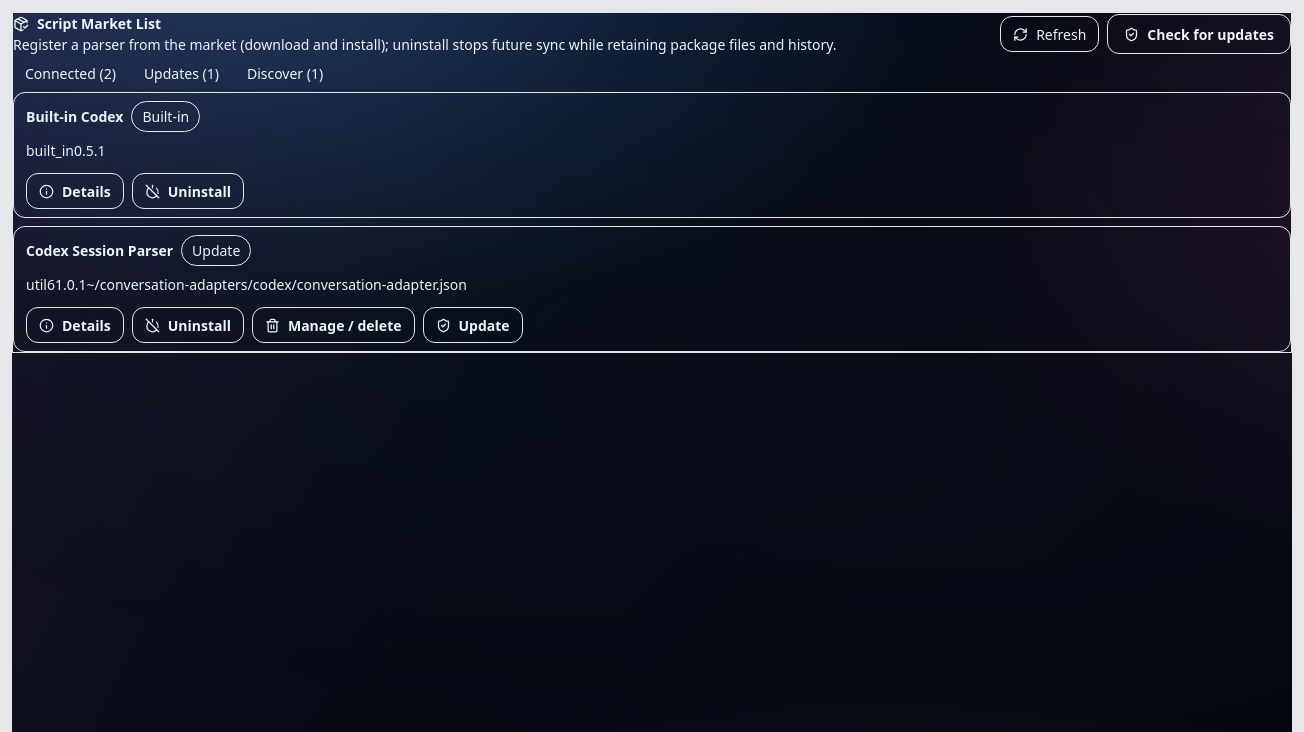
Test: ConversationScriptResourcePanel › separates connected, update, and discover views
This screenshot has width=1304, height=732.
Check: the heading "Built-in Codex" is shown, box left=26, top=106, right=123, bottom=127
Check: the heading "Codex Session Parser" is shown, box left=26, top=240, right=173, bottom=261
Click the tab "Updates (1)". click: (181, 74)
box: left=132, top=55, right=231, bottom=92
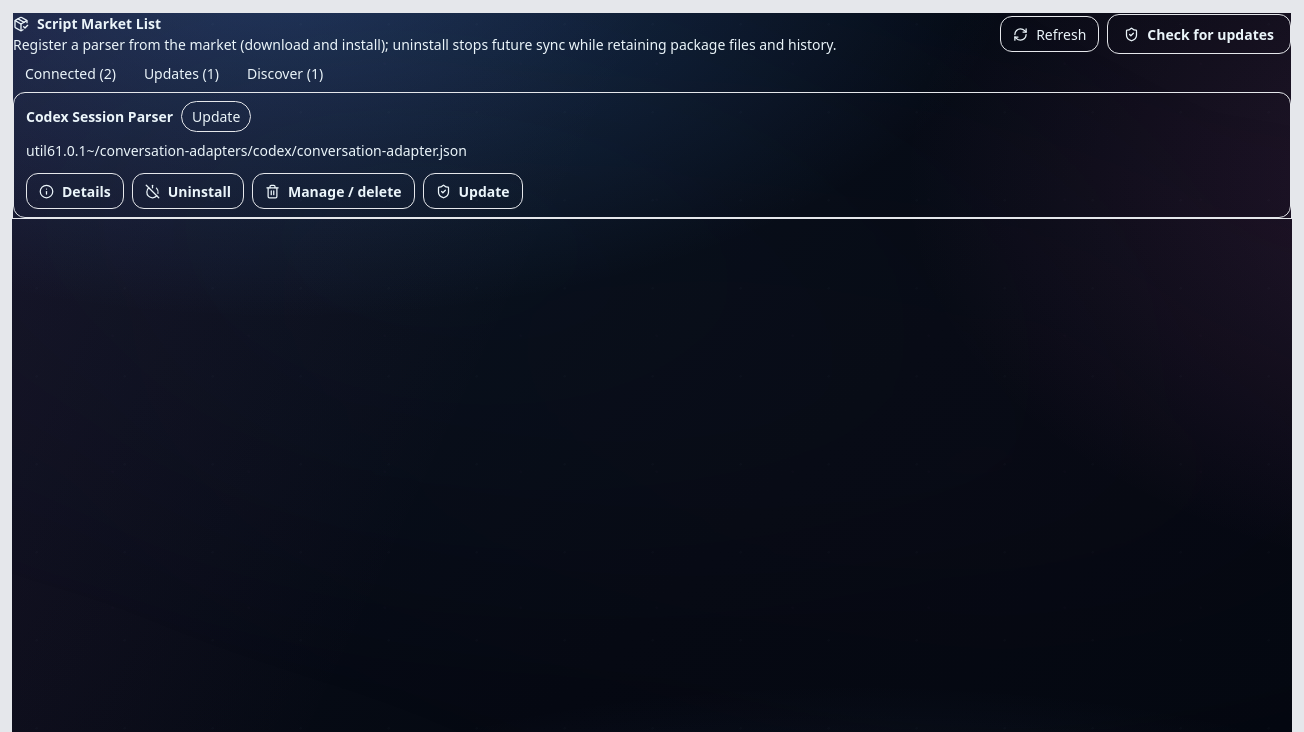
Check: the heading "Codex Session Parser" is shown, box left=26, top=106, right=173, bottom=127
Check: the heading "Built-in Codex" is gone
Click the tab "Discover (1)". click: (285, 74)
box: left=235, top=55, right=335, bottom=92
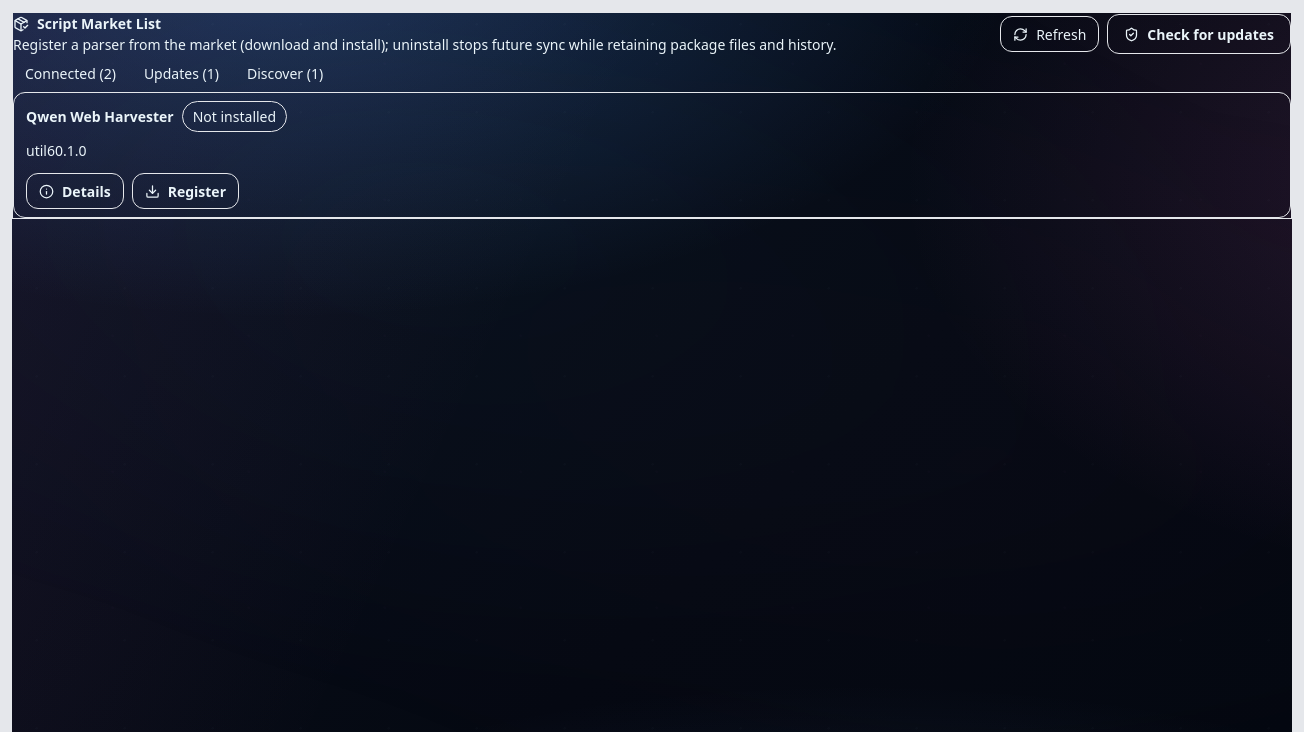
Check: the heading "Qwen Web Harvester" is shown, box left=26, top=106, right=174, bottom=127
